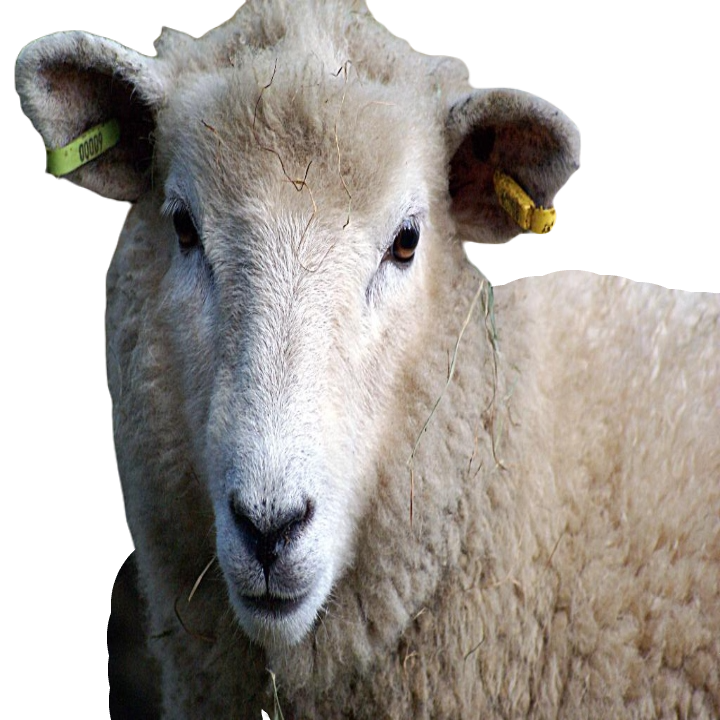Sheep: (10, 2, 719, 719)
